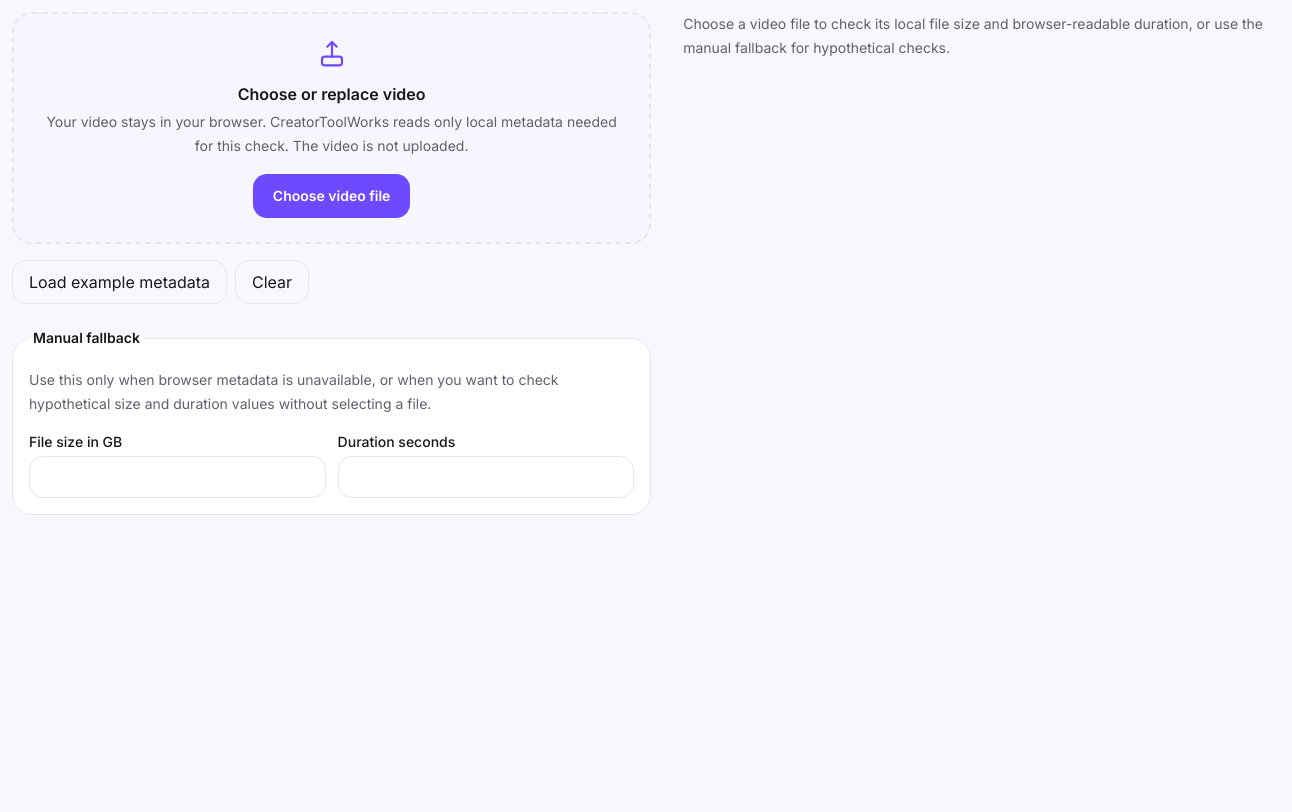
YoutubeUploadLimitChecker › loads illustrative example metadata and clears state
Click the button "Load example metadata" at (120, 282), box left=12, top=260, right=227, bottom=304
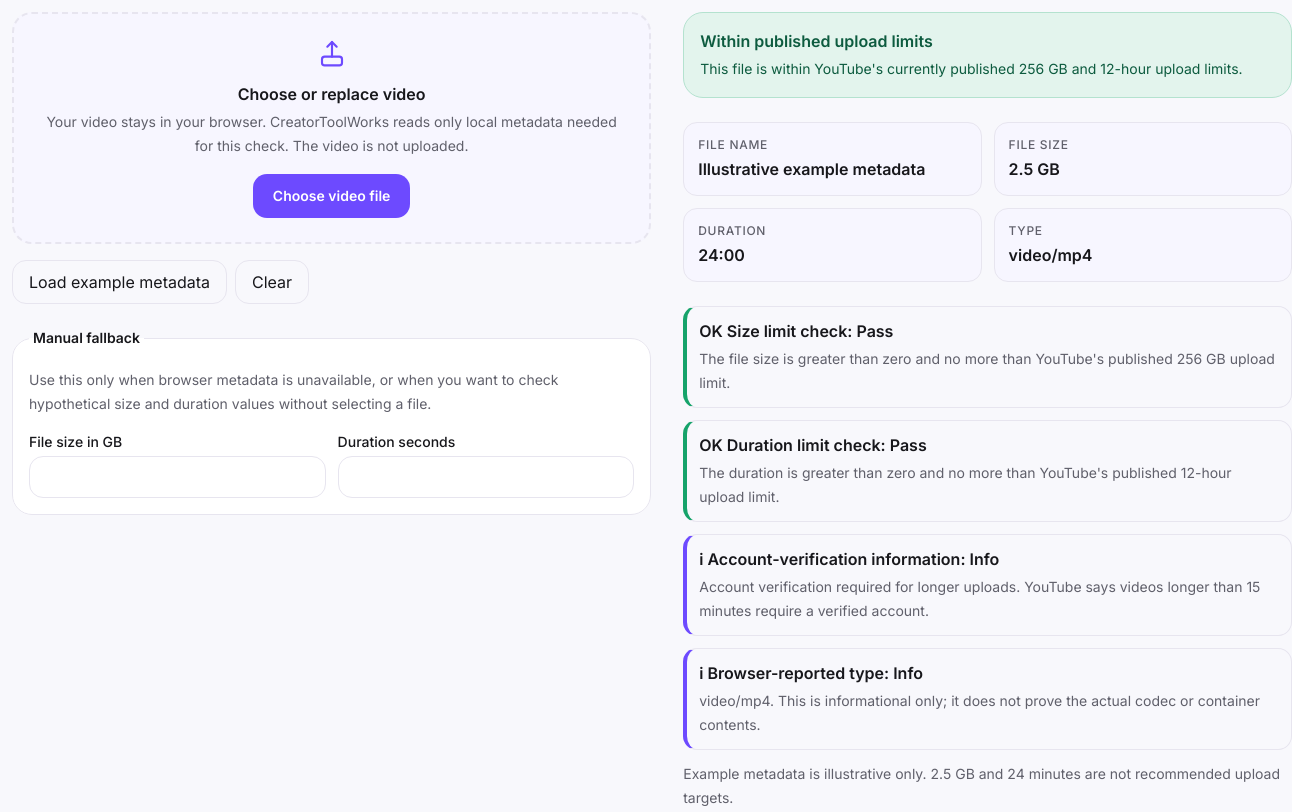
Result: the text "Within published upload limits" is shown at left=700, top=31, right=933, bottom=51
Result: the text "24:00" is shown at left=698, top=245, right=745, bottom=265
Result: the text "illustrative only" is shown at left=683, top=765, right=1280, bottom=806
Click the button "Clear" at (272, 282), box left=235, top=260, right=309, bottom=304
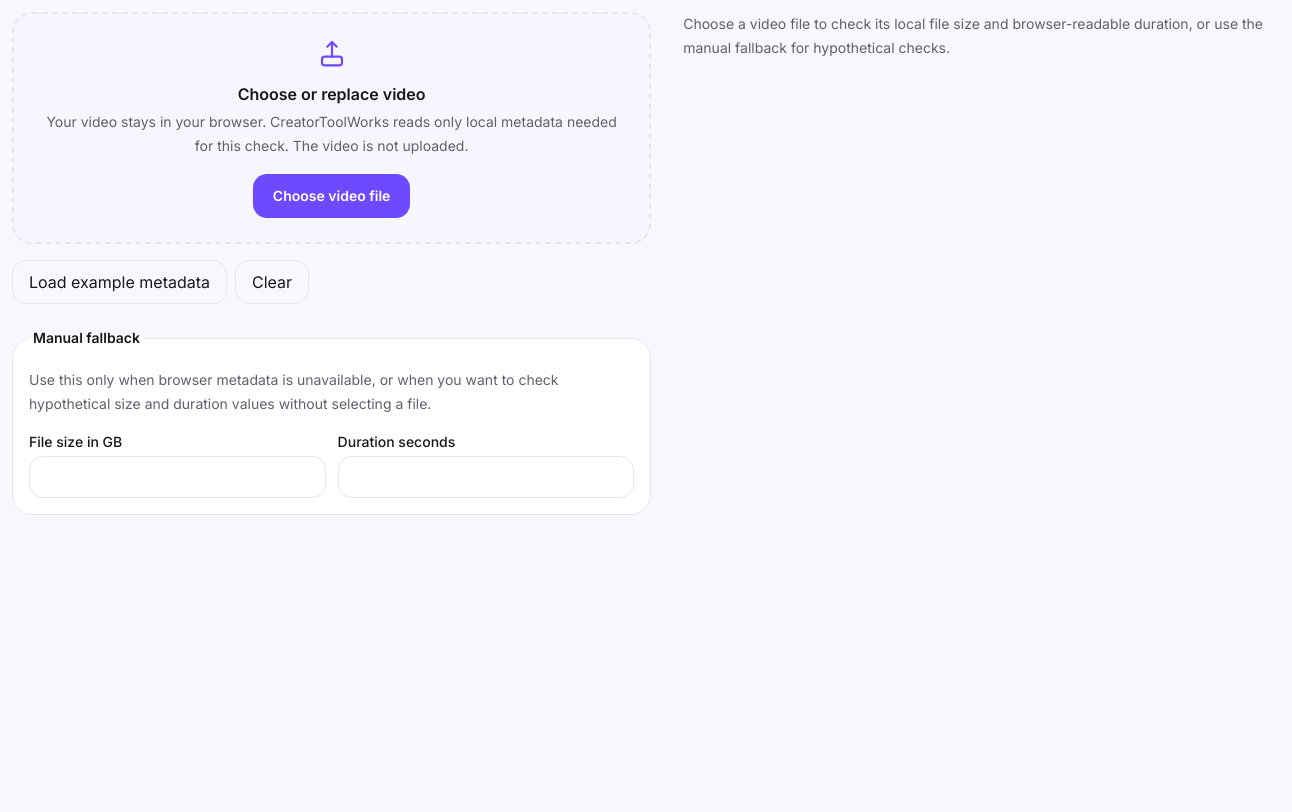
Result: the text "Choose a video file to check its local file size" is shown at left=683, top=15, right=1263, bottom=56
